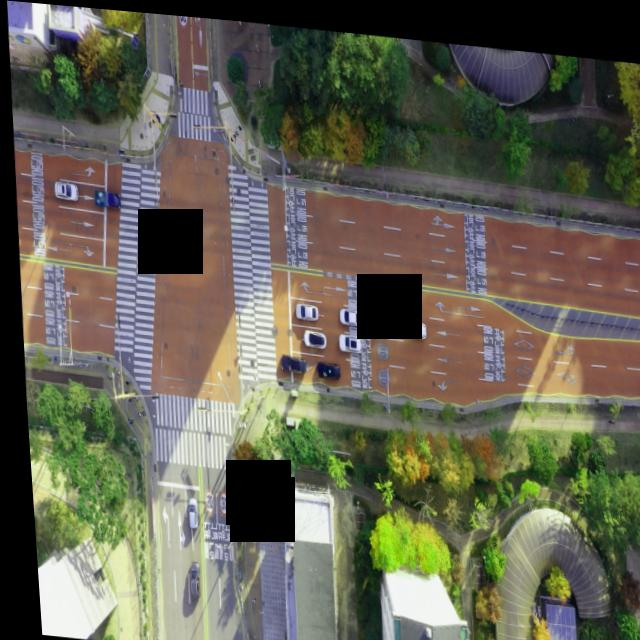car: (177, 558, 191, 599), (396, 311, 420, 330), (274, 350, 299, 368), (334, 326, 356, 346), (289, 296, 312, 315), (49, 178, 72, 197), (310, 356, 333, 372), (298, 325, 319, 342), (180, 494, 191, 525), (334, 301, 355, 317), (363, 305, 382, 322), (569, 633, 584, 640), (640, 362, 640, 382)
small_truck: (88, 183, 117, 206)
